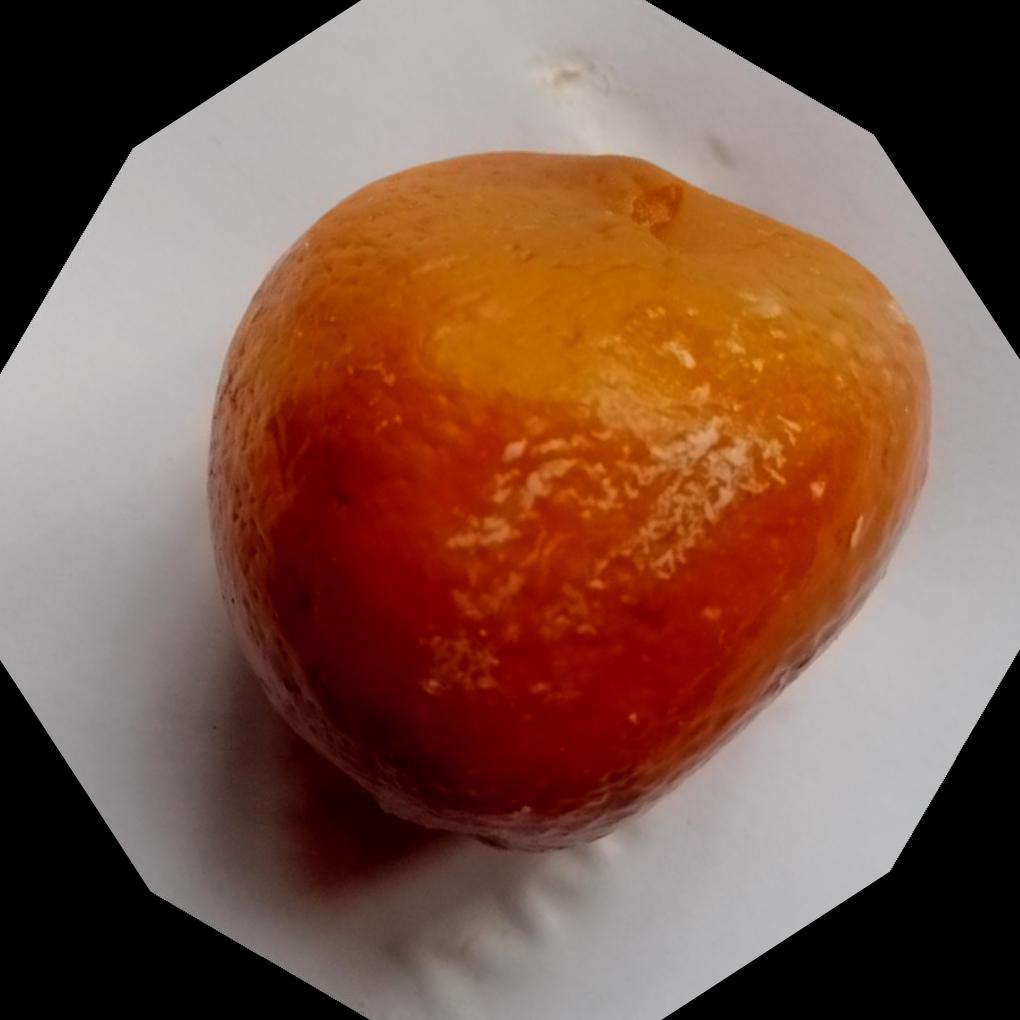FreshOrange: (201, 145, 931, 851)
